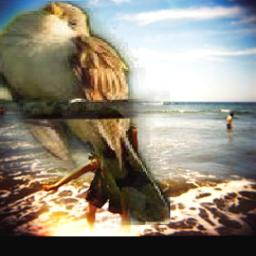Cuckoo: (0, 1, 171, 225)
